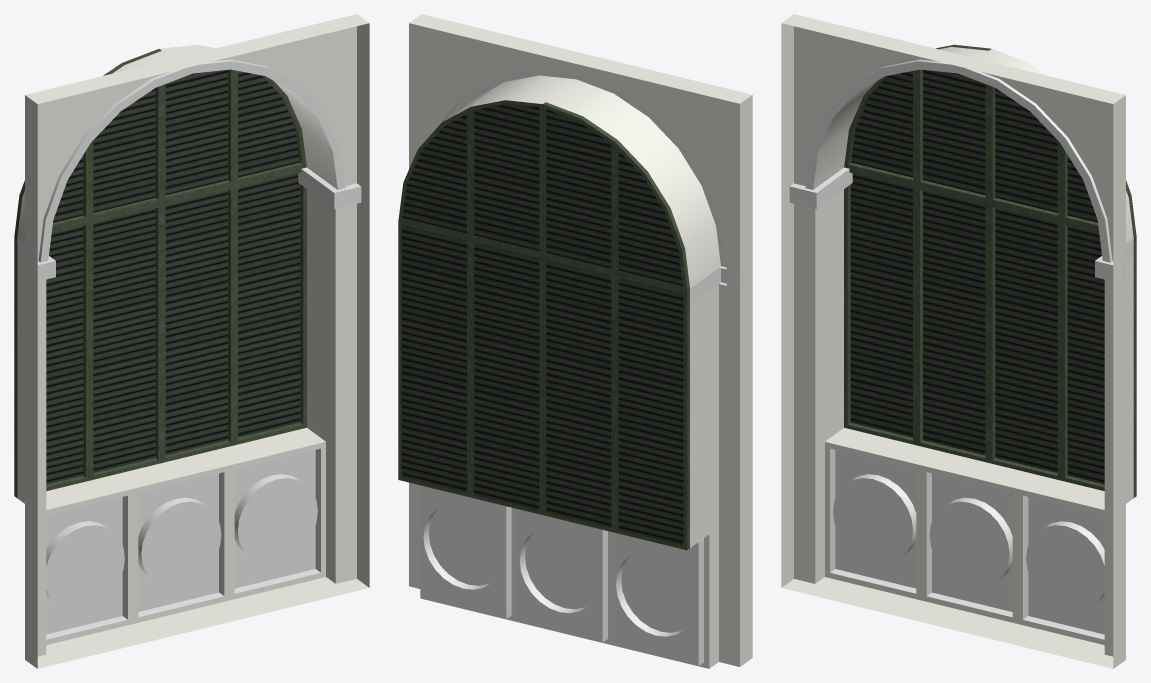
The model's file is window7.glb.
3 renders of one model, left to right at view 1: azimuth 30°, elevation 25°; view 2: azimuth 150°, elevation 25°; view 3: azimuth 330°, elevation 25°, orthographic.
Parts seen in each view (by area): view 1: 3DGeom-9.003, 3DGeom-18.001, 3DGeom-10.001, 3DGeom-18.002, 3DGeom-9.002, 3DGeom-19.001, 3DGeom-19.002; view 2: 3DGeom-18.002, 3DGeom-18.001, 3DGeom-9.003, 3DGeom-10.001, 3DGeom-9.002, 3DGeom-19.002, 3DGeom-19.001; view 3: 3DGeom-9.003, 3DGeom-18.002, 3DGeom-10.001, 3DGeom-18.001, 3DGeom-9.002, 3DGeom-19.002, 3DGeom-19.001.
Boxes of the visible parts, <box> form: 3DGeom-9.003: <box>17,14,369,668</box>; 3DGeom-18.001: <box>165,70,300,455</box>; 3DGeom-10.001: <box>17,59,361,639</box>; 3DGeom-18.002: <box>46,88,155,484</box>; 3DGeom-9.002: <box>29,26,369,651</box>; 3DGeom-19.001: <box>162,69,306,462</box>; 3DGeom-19.002: <box>14,49,161,497</box>; 3DGeom-18.002: <box>546,109,683,545</box>; 3DGeom-18.001: <box>402,104,539,510</box>; 3DGeom-9.003: <box>409,14,752,668</box>; 3DGeom-10.001: <box>420,68,744,665</box>; 3DGeom-9.002: <box>409,23,752,645</box>; 3DGeom-19.002: <box>542,102,689,550</box>; 3DGeom-19.001: <box>398,100,542,514</box>; 3DGeom-9.003: <box>781,14,1133,668</box>; 3DGeom-18.002: <box>850,70,985,455</box>; 3DGeom-10.001: <box>789,59,1133,639</box>; 3DGeom-18.001: <box>995,88,1104,484</box>; 3DGeom-9.002: <box>781,26,1121,668</box>; 3DGeom-19.002: <box>844,44,991,462</box>; 3DGeom-19.001: <box>989,85,1136,497</box>.
Size of the model in its own units: 1.99 by 3.23 by 0.46.
4 materials, 2 textured.
